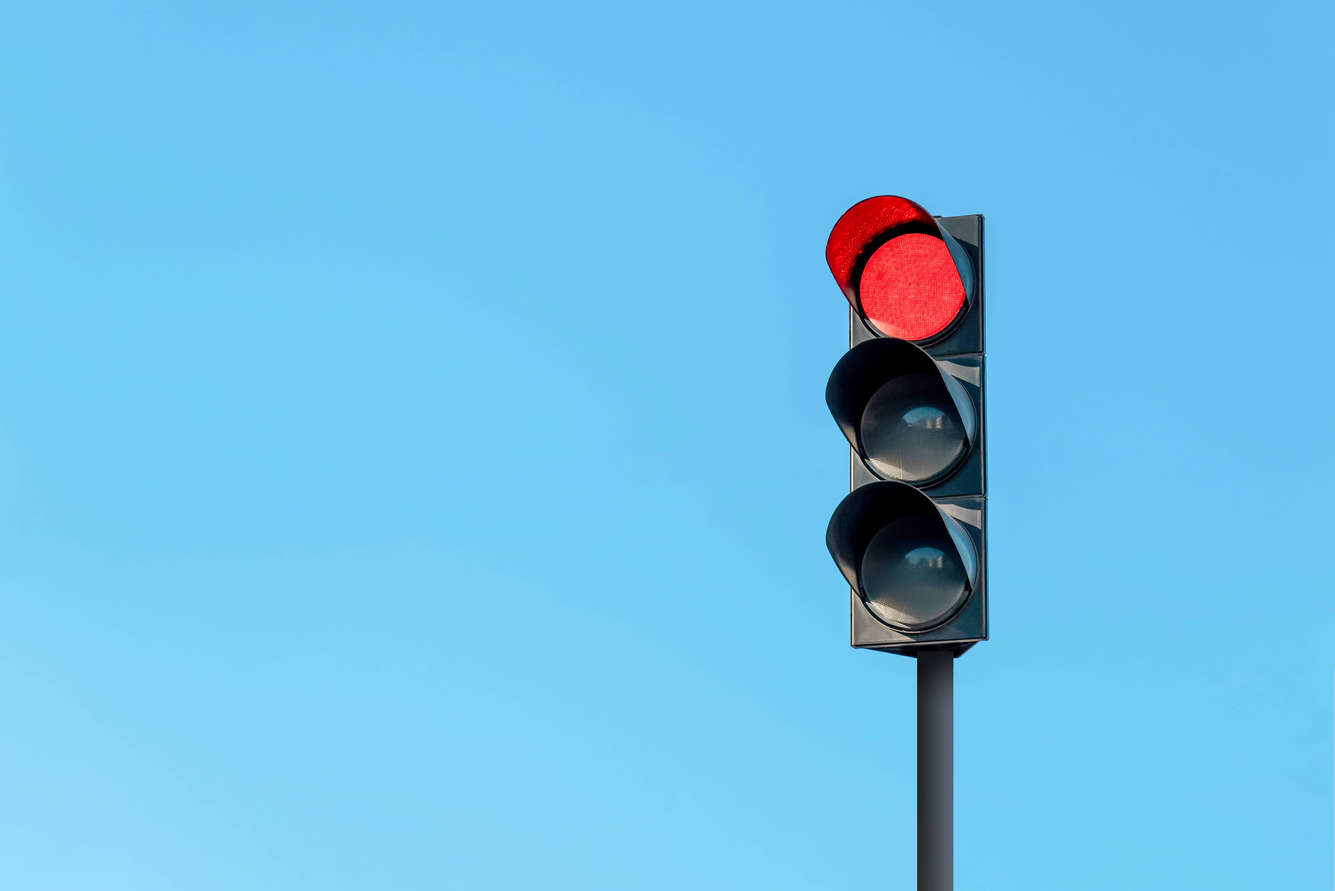TraficLight: (788, 180, 1030, 669)
